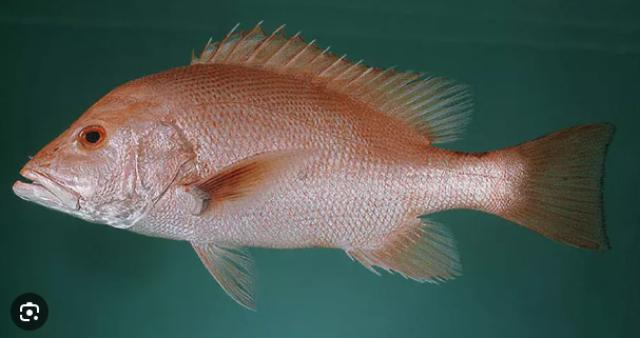Mulut: (13, 152, 67, 218)
Sirip Anal: (342, 210, 468, 290)
Sirip Dada: (184, 142, 322, 219)
Sirip Ekor: (514, 111, 622, 264)
Sirip Perut: (187, 235, 269, 314)
Sirip Punggung: (188, 16, 484, 144)
